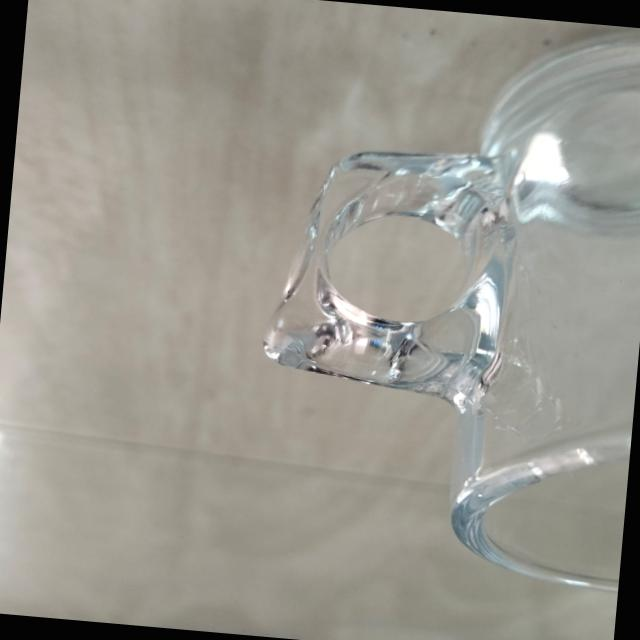glass-VX4N: (234, 0, 640, 596)
